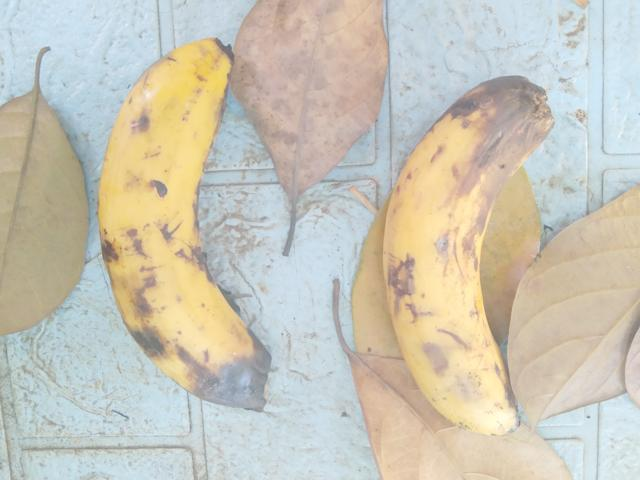overripe: (87, 24, 299, 435), (361, 54, 563, 458)
